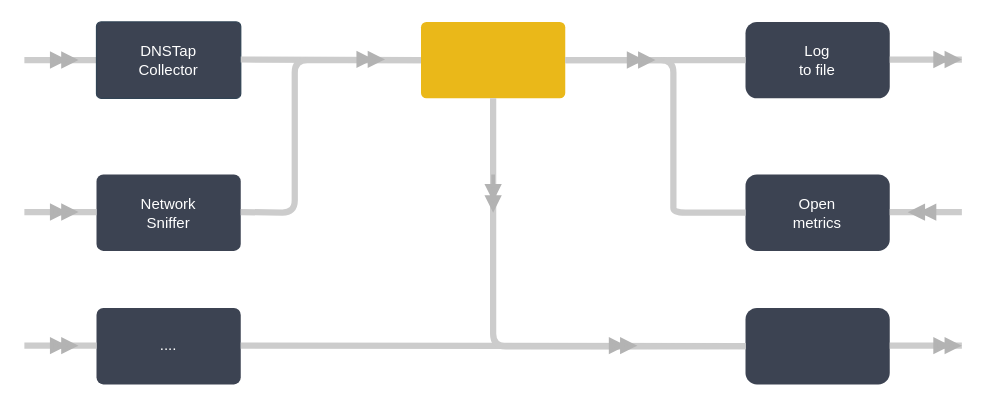
The diagram is 995 pixels wide and 406 high, and some of its shapes have lost their labels. The shapes that lost their labels are listed below. From the top down, each one's centre as x and y in pixels, then its label:
At point 492,59: "Apply transforms".
At point 817,345: "DNSTap Sender".
